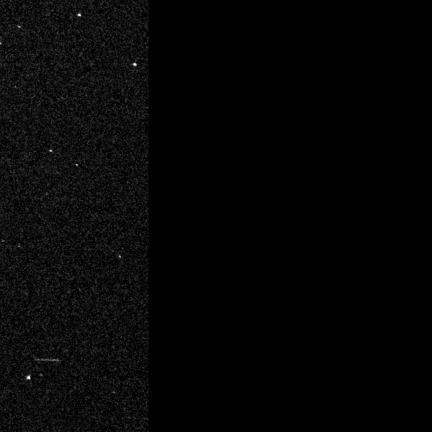blob: (49, 150, 53, 153), (78, 14, 82, 17), (133, 63, 137, 66), (27, 376, 30, 379), (76, 164, 79, 167), (18, 26, 21, 29)
streak: (36, 359, 59, 361)
